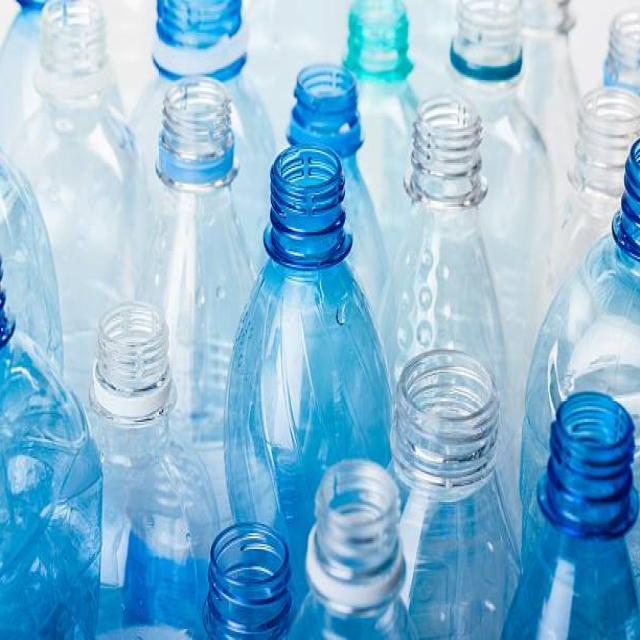plastic: (225, 142, 398, 534), (129, 0, 282, 315), (76, 295, 209, 640), (0, 259, 105, 640), (521, 73, 640, 404), (391, 350, 521, 640), (379, 97, 512, 379), (434, 0, 568, 278), (8, 0, 137, 286), (292, 1, 426, 273), (507, 376, 640, 640), (292, 465, 415, 640), (202, 512, 296, 640)
